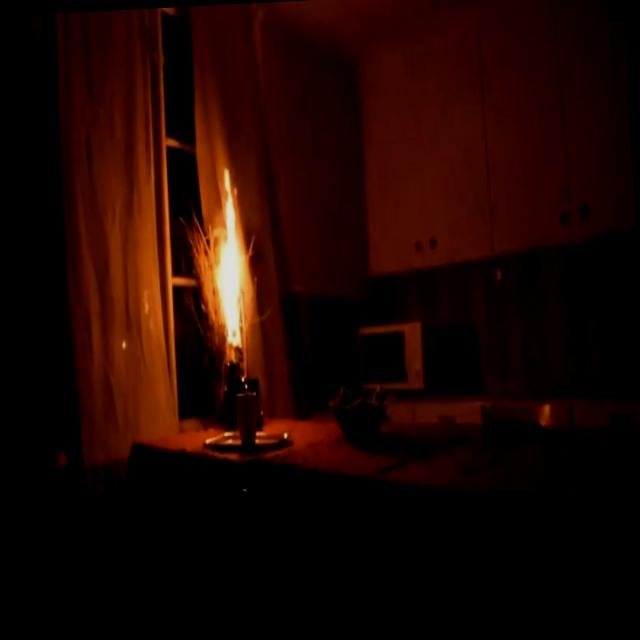fire: (174, 131, 284, 392)
